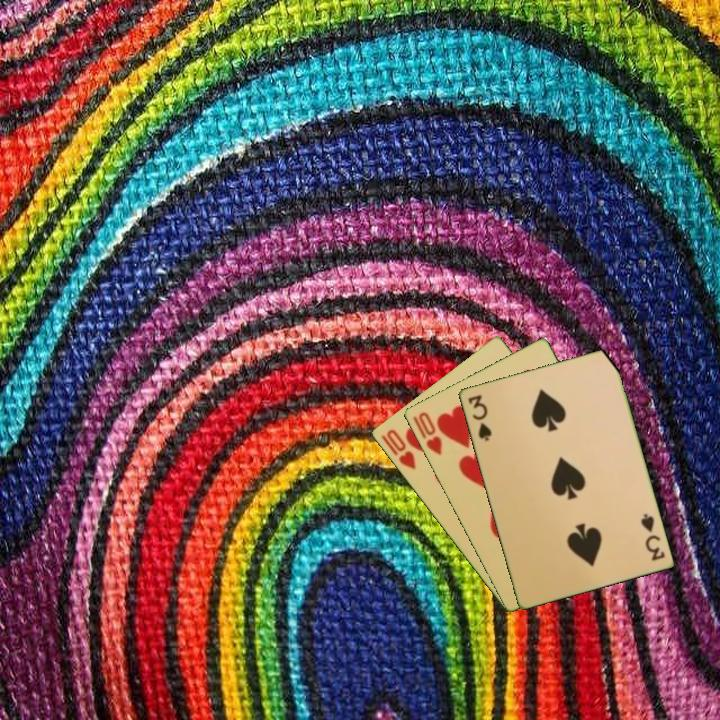10h: (377, 426, 418, 473), (409, 408, 445, 458)
3s: (464, 391, 494, 444), (637, 510, 667, 563)
